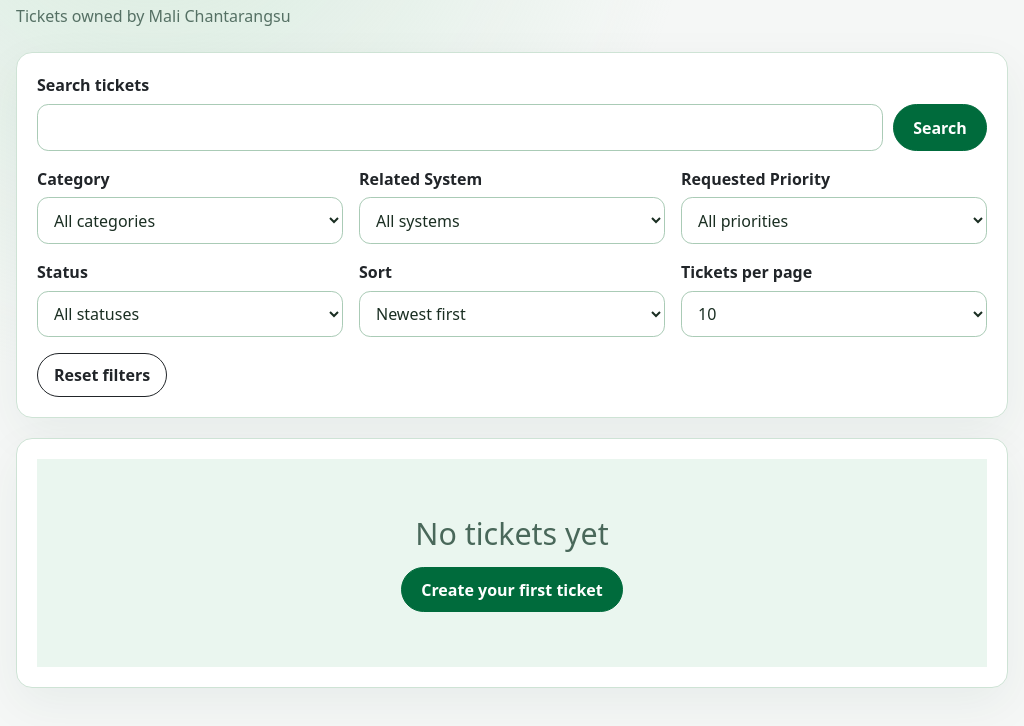
Scenario: My Tickets page › distinguishes the unfiltered Empty state and navigates to Create Ticket
This screenshot has width=1024, height=726.
(page scrolled)
Expected: the heading "No tickets yet" is shown, left=415, top=514, right=609, bottom=551
Step 1. Click the button "Create your first ticket" → (512, 590), box left=401, top=567, right=623, bottom=612
(page scrolled)
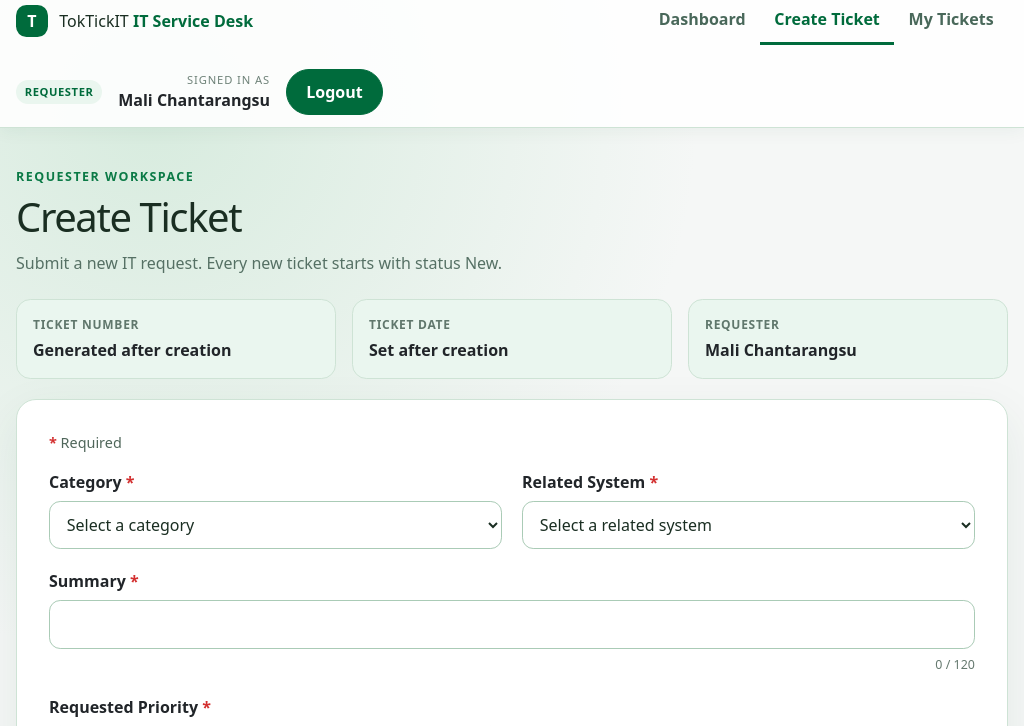
Expected: the heading "Create Ticket" is shown, left=16, top=189, right=241, bottom=244
